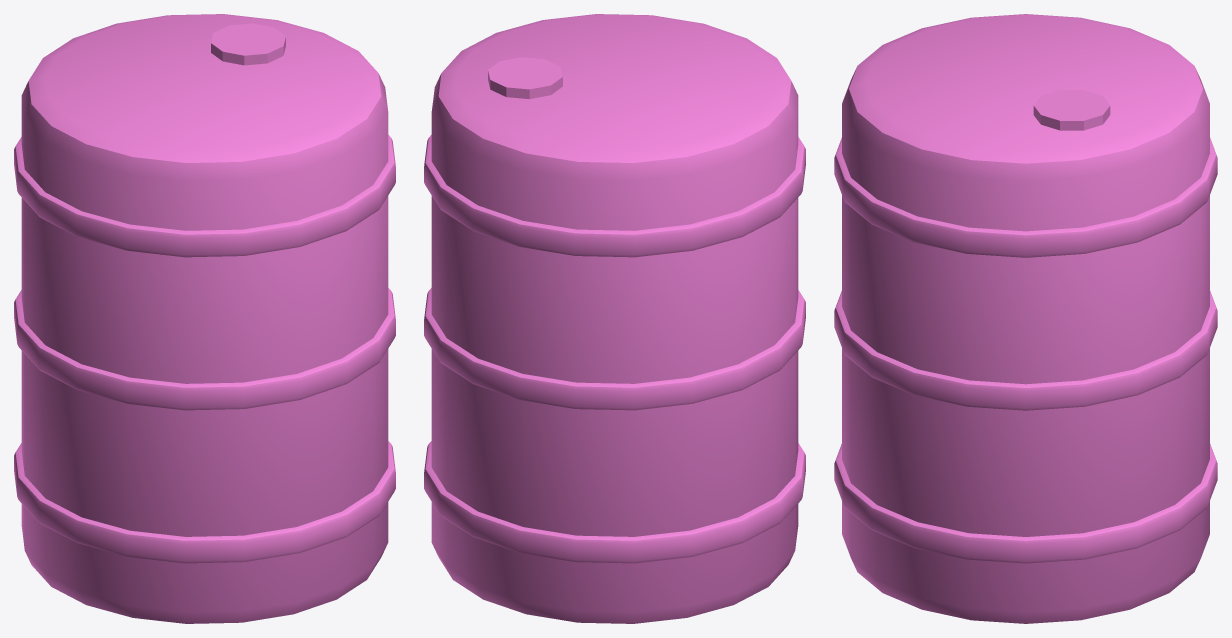
The model's file is Docks_Barrel.fbx.
3 views of the same model, side by side, from view 1: azimuth 30°, elevation 25°; view 2: azimuth 150°, elevation 25°; view 3: azimuth 270°, elevation 25° (orthographic).
Visible parts, largest first — view 1: Barrel; view 2: Barrel; view 3: Barrel.
Part boxes in pixels (x1,y1,x2,y2): Barrel: (14,14,395,623); Barrel: (424,14,805,623); Barrel: (834,14,1217,623).
Size of the model in its own units: 2.5 by 3.47 by 2.5.
Materials: 1 (1 with a texture image).
